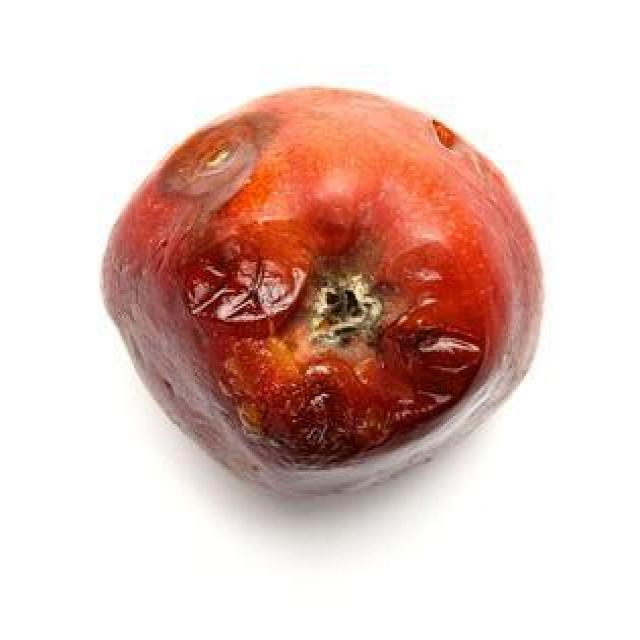Rotten: (98, 86, 556, 497)
